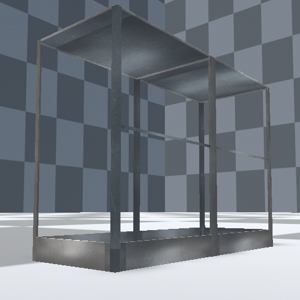Rack: (31, 1, 273, 274)
